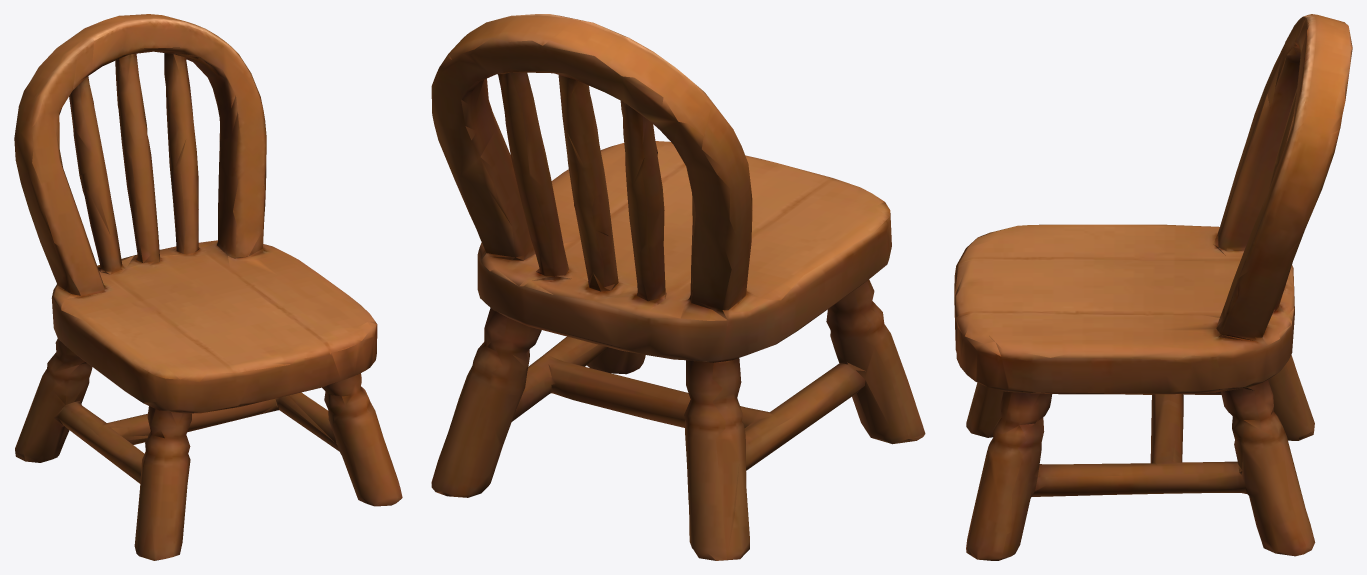
The model's file is chair18.glb.
3 views of the same model, side by side, from view 1: azimuth 30°, elevation 25°; view 2: azimuth 150°, elevation 25°; view 3: azimuth 270°, elevation 25° (orthographic). The views are drawn at different scales.
Size of the model in its own units: 0.1688 by 0.2481 by 0.1948.
1 material, 1 textured.
